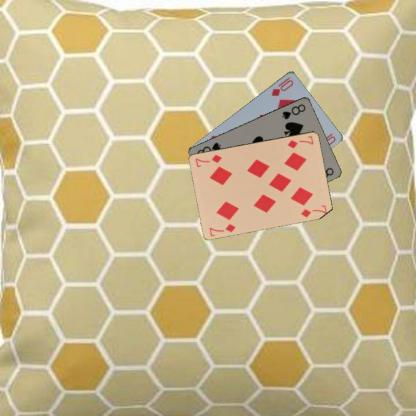10d: (268, 74, 294, 97)
7d: (207, 221, 237, 238), (285, 133, 315, 149)
8s: (280, 101, 307, 120)
